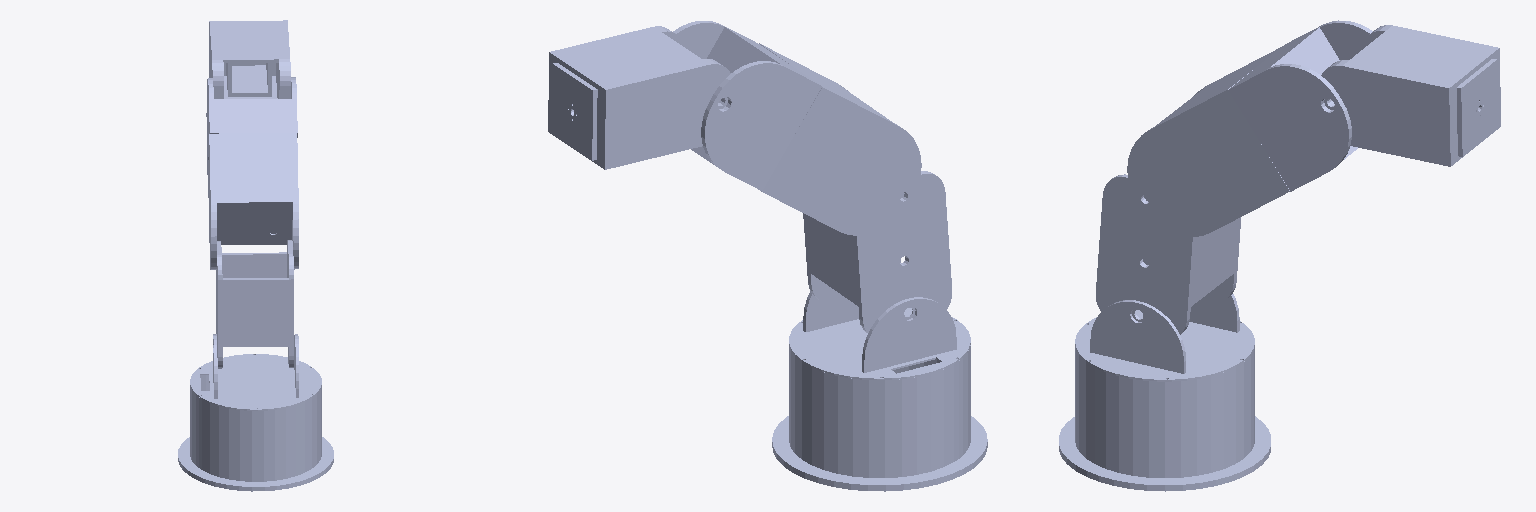
The robot description file, URDF, robot "armrobot":
<robot
  name="armrobot">
  <link
    name="base_link">
    <inertial>
      <origin
        xyz="0.0176061748588041 -0.324486216929227 0.110499479656354"
        rpy="0 0 0" />
      <mass
        value="1.46079346002943" />
      <inertia
        ixx="0.0149175345769698"
        ixy="6.20385459415203E-22"
        ixz="4.16763853451283E-18"
        iyy="0.0149175345769698"
        iyz="1.81572253156349E-18"
        izz="0.0217682754648218" />
    </inertial>
    <visual>
      <origin
        xyz="0 0 0"
        rpy="0 0 0" />
      <geometry>
        <mesh
          filename="package://armrobot/meshes/base_link.STL" />
      </geometry>
      <material
        name="">
        <color
          rgba="0.792156862745098 0.819607843137255 0.933333333333333 1" />
      </material>
    </visual>
    <collision>
      <origin
        xyz="0 0 0"
        rpy="0 0 0" />
      <geometry>
        <mesh
          filename="package://armrobot/meshes/base_link.STL" />
      </geometry>
    </collision>
  </link>
  <link
    name="link01">
    <inertial>
      <origin
        xyz="0.00129360549058061 0.024235592989766 1.11022302462516E-16"
        rpy="0 0 0" />
      <mass
        value="0.347308358901827" />
      <inertia
        ixx="0.00138773508977893"
        ixy="1.02146472184429E-05"
        ixz="3.79470760369927E-18"
        iyy="0.00308679444190769"
        iyz="-5.68359107607636E-19"
        izz="0.0022788533434689" />
    </inertial>
    <visual>
      <origin
        xyz="0 0 0"
        rpy="0 0 0" />
      <geometry>
        <mesh
          filename="package://armrobot/meshes/link01.STL" />
      </geometry>
      <material
        name="">
        <color
          rgba="0.792156862745098 0.819607843137255 0.933333333333333 1" />
      </material>
    </visual>
    <collision>
      <origin
        xyz="0 0 0"
        rpy="0 0 0" />
      <geometry>
        <mesh
          filename="package://armrobot/meshes/link01.STL" />
      </geometry>
    </collision>
  </link>
  <joint
    name="joint1"
    type="continuous">
    <origin
      xyz="0.017606 -0.32449 0.2368"
      rpy="1.5708 -2.9332E-17 -0.49956" />
    <parent
      link="base_link" />
    <child
      link="link01" />
    <axis
      xyz="0 1 0" />
    <limit
      effort="2"
      velocity="1" />
  </joint>
  <link
    name="link12">
    <inertial>
      <origin
        xyz="-0.0981193147488483 -1.60982338570648E-15 0.00200000000000172"
        rpy="0 0 0" />
      <mass
        value="1.11937048019661" />
      <inertia
        ixx="0.00801988163772991"
        ixy="4.09286320113278E-18"
        ixz="-5.01443504774546E-19"
        iyy="0.00856877454331104"
        iyz="1.73472347597681E-18"
        izz="0.00767533470843555" />
    </inertial>
    <visual>
      <origin
        xyz="0 0 0"
        rpy="0 0 0" />
      <geometry>
        <mesh
          filename="package://armrobot/meshes/link12.STL" />
      </geometry>
      <material
        name="">
        <color
          rgba="0.792156862745098 0.819607843137255 0.933333333333333 1" />
      </material>
    </visual>
    <collision>
      <origin
        xyz="0 0 0"
        rpy="0 0 0" />
      <geometry>
        <mesh
          filename="package://armrobot/meshes/link12.STL" />
      </geometry>
    </collision>
  </link>
  <joint
    name="joint2"
    type="revolute">
    <origin
      xyz="0 0.081 0"
      rpy="1.5708 -0.073077 -1.5708" />
    <parent
      link="link01" />
    <child
      link="link12" />
    <axis
      xyz="0 0 -1" />
    <limit
      lower="-1.7453"
      upper="1.7453"
      effort="2"
      velocity="1" />
  </joint>
  <link
    name="link23">
    <inertial>
      <origin
        xyz="0.151955789611616 -2.9270080563748E-06 0.00185292700805606"
        rpy="0 0 0" />
      <mass
        value="5.49535706052116" />
      <inertia
        ixx="0.0312656752330393"
        ixy="-1.17349054812397E-06"
        ixz="1.17349054813091E-06"
        iyy="0.0323597342624823"
        iyz="-6.43445256244459E-07"
        izz="0.0307674107157527" />
    </inertial>
    <visual>
      <origin
        xyz="0 0 0"
        rpy="0 0 0" />
      <geometry>
        <mesh
          filename="package://armrobot/meshes/link23.STL" />
      </geometry>
      <material
        name="">
        <color
          rgba="0.792156862745098 0.819607843137255 0.933333333333333 1" />
      </material>
    </visual>
    <collision>
      <origin
        xyz="0 0 0"
        rpy="0 0 0" />
      <geometry>
        <mesh
          filename="package://armrobot/meshes/link23.STL" />
      </geometry>
    </collision>
  </link>
  <joint
    name="joint3"
    type="revolute">
    <origin
      xyz="-0.197 0 0"
      rpy="3.3862E-15 -5.218E-15 -2.2721" />
    <parent
      link="link12" />
    <child
      link="link23" />
    <axis
      xyz="0 0 -1" />
    <limit
      lower="-1.7453"
      upper="1.7453"
      effort="2"
      velocity="1" />
  </joint>
  <link
    name="link34">
    <inertial>
      <origin
        xyz="-0.0169642442294969 -2.22044604925031E-16 1.38777878078145E-16"
        rpy="0 0 0" />
      <mass
        value="2.79074113501019" />
      <inertia
        ixx="0.0161908942780376"
        ixy="-3.46944695195361E-18"
        ixz="-1.0842021724855E-18"
        iyy="0.0114011057306674"
        iyz="-4.11996825544492E-18"
        izz="0.0101991187528917" />
    </inertial>
    <visual>
      <origin
        xyz="0 0 0"
        rpy="0 0 0" />
      <geometry>
        <mesh
          filename="package://armrobot/meshes/link34.STL" />
      </geometry>
      <material
        name="">
        <color
          rgba="0.792156862745098 0.819607843137255 0.933333333333333 1" />
      </material>
    </visual>
    <collision>
      <origin
        xyz="0 0 0"
        rpy="0 0 0" />
      <geometry>
        <mesh
          filename="package://armrobot/meshes/link34.STL" />
      </geometry>
    </collision>
  </link>
  <joint
    name="joint4"
    type="continuous">
    <origin
      xyz="0.30331 0 0.00185"
      rpy="-3.1304 1.1657E-15 3.1086E-15" />
    <parent
      link="link23" />
    <child
      link="link34" />
    <axis
      xyz="1 0 0" />
    <limit
      effort="2"
      velocity="1" />
  </joint>
  <link
    name="link45">
    <inertial>
      <origin
        xyz="0.0999176864544128 -6.66133814775094E-16 6.10622663543836E-16"
        rpy="0 0 0" />
      <mass
        value="1.65897773866094" />
      <inertia
        ixx="0.00960236744018954"
        ixy="3.49655200626575E-18"
        ixz="4.33680868994202E-19"
        iyy="0.0129478744379157"
        iyz="6.05797963876276E-18"
        izz="0.00949418899234963" />
    </inertial>
    <visual>
      <origin
        xyz="0 0 0"
        rpy="0 0 0" />
      <geometry>
        <mesh
          filename="package://armrobot/meshes/link45.STL" />
      </geometry>
      <material
        name="">
        <color
          rgba="0.792156862745098 0.819607843137255 0.933333333333333 1" />
      </material>
    </visual>
    <collision>
      <origin
        xyz="0 0 0"
        rpy="0 0 0" />
      <geometry>
        <mesh
          filename="package://armrobot/meshes/link45.STL" />
      </geometry>
    </collision>
  </link>
  <joint
    name="joint5"
    type="revolute">
    <origin
      xyz="0.081686 0 0"
      rpy="-9.4716E-16 -1.1102E-16 -0.61164" />
    <parent
      link="link34" />
    <child
      link="link45" />
    <axis
      xyz="0 0 1" />
    <limit
      lower="-0.017453"
      upper="0.017453"
      effort="2"
      velocity="1" />
  </joint>
  <link
    name="link56">
    <inertial>
      <origin
        xyz="0.0499809574738659 5.55111512312578E-16 6.66133814775094E-16"
        rpy="0 0 0" />
      <mass
        value="0.444019858497779" />
      <inertia
        ixx="0.000996979236728048"
        ixy="4.65868120989865E-19"
        ixz="-2.16840434497101E-19"
        iyy="0.00135582146654638"
        iyz="5.30242624981192E-19"
        izz="0.00135582146654638" />
    </inertial>
    <visual>
      <origin
        xyz="0 0 0"
        rpy="0 0 0" />
      <geometry>
        <mesh
          filename="package://armrobot/meshes/link56.STL" />
      </geometry>
      <material
        name="">
        <color
          rgba="0.792156862745098 0.819607843137255 0.933333333333333 1" />
      </material>
    </visual>
    <collision>
      <origin
        xyz="0 0 0"
        rpy="0 0 0" />
      <geometry>
        <mesh
          filename="package://armrobot/meshes/link56.STL" />
      </geometry>
    </collision>
  </link>
  <joint
    name="joint6"
    type="prismatic">
    <origin
      xyz="0.20297 0 0"
      rpy="0 3.8858E-16 3.1416" />
    <parent
      link="link45" />
    <child
      link="link56" />
    <axis
      xyz="1 0 0" />
    <limit
      lower="0"
      upper="10"
      effort="2"
      velocity="1" />
  </joint>
</robot>

--- Render facts (derived) ---
3 views of the same robot in one strip: view 1: azimuth 30°, elevation 25°; view 2: azimuth 150°, elevation 25°; view 3: azimuth 270°, elevation 25° (orthographic).
Model armrobot with 7 links and 6 joints (3 revolute, 2 continuous, 1 prismatic), rooted at base_link, posed all joints at 0.
Links seen in each view (by area): view 1: base_link, link23, link12, link01, link45, link34, link56; view 2: base_link, link23, link45, link12, link34, link01, link56; view 3: base_link, link23, link45, link34, link12, link01, link56.
Boxes of the visible links, x1,y1,x2,y2 form: base_link: [178, 375, 333, 491]; link23: [208, 133, 298, 269]; link12: [216, 240, 293, 368]; link01: [190, 334, 321, 410]; link45: [209, 20, 290, 98]; link34: [206, 77, 297, 174]; link56: [226, 63, 271, 96]; base_link: [772, 345, 987, 491]; link23: [759, 43, 921, 235]; link45: [548, 26, 730, 169]; link12: [803, 171, 951, 332]; link34: [673, 21, 821, 190]; link01: [789, 291, 970, 379]; link56: [552, 63, 597, 160]; base_link: [1059, 346, 1270, 491]; link23: [1127, 47, 1289, 236]; link45: [1321, 25, 1500, 166]; link34: [1228, 20, 1372, 191]; link12: [1096, 174, 1240, 334]; link01: [1075, 294, 1254, 381]; link56: [1457, 59, 1498, 156].
Bounding box of the posed robot: 0.4806 × 0.6634 × 0.7428 m (x, y, z).
Meshes: 7 distinct files referenced, 7 mesh visuals loaded (7 binary STL).